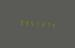five: (27, 19, 31, 27)
four: (47, 20, 51, 29)
nine: (22, 18, 26, 27), (17, 18, 21, 26)
seven: (32, 19, 36, 27), (42, 20, 46, 28)
three: (37, 20, 41, 28)
